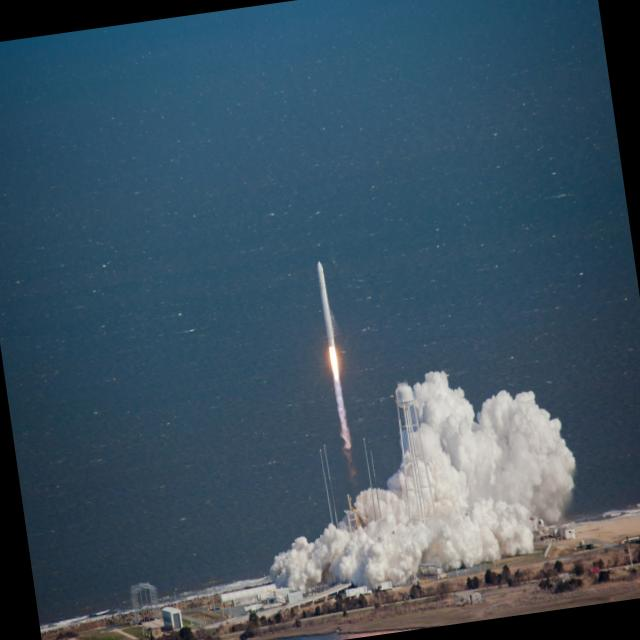rocket: (310, 249, 360, 461)
